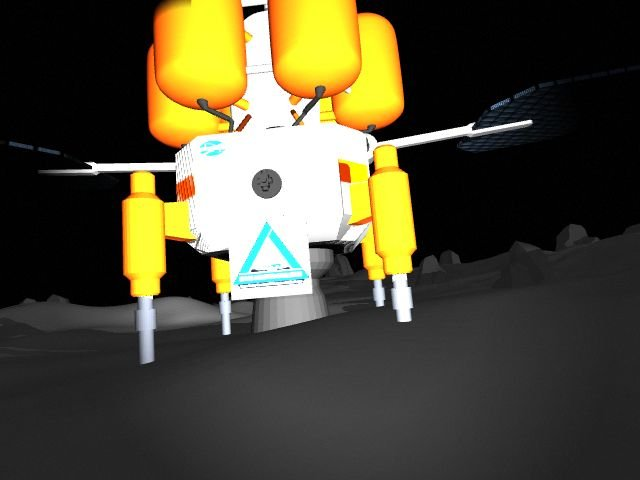basemarker: (232, 220, 309, 290)
